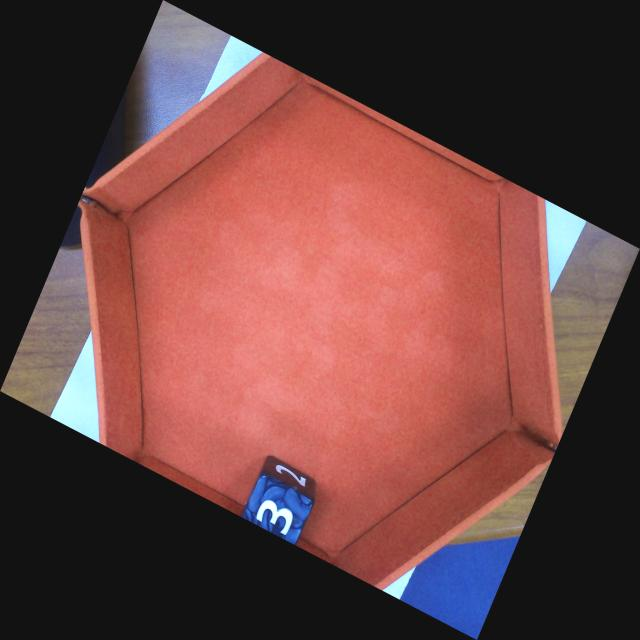dice: (244, 477, 317, 547)
